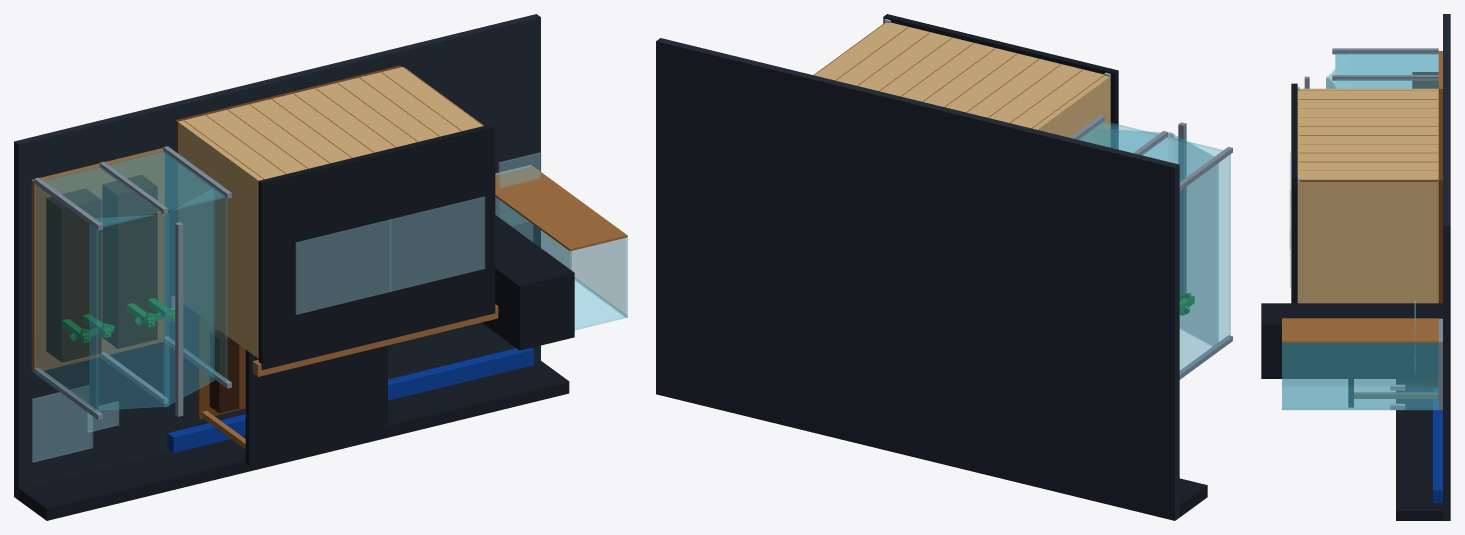
The model's file is project_domus.obj.
The picture shows the model from 3 angles, left to right: view 1: azimuth 30°, elevation 25°; view 2: azimuth 150°, elevation 25°; view 3: azimuth 270°, elevation 25°; orthographic projection. The views are drawn at different scales.
Parts seen in each view (by area): view 1: Base_negra_800x520, Techo_plano_removible, Muro_posterior_vivienda, Frente_rotulado_PROJECT_DOMUS, Cubierta_inclinada_izquierda, Muro_lateral_izquierdo, Cubierta_porche, Panel_transparente_izquierdo, Panel_transparente_derecho, Cubierta_inclinada_derecha, Bancal_derecho, Bancal_izquierdo (+18 smaller); view 2: Base_negra_800x520, Muro_posterior_vivienda, Panel_transparente_izquierdo, Cubierta_inclinada_izquierda, Panel_transparente_posterior, Techo_plano_removible, Muro_lateral_izquierdo, Cubierta_inclinada_derecha, Viga_cumbrera, Frente_rotulado_PROJECT_DOMUS; view 3: Muro_lateral_derecho, Muro_posterior_vivienda, Gabinete_lateral_derecho, Torre_Jarvis_cuerpo, Gabinete_lateral_izquierdo, Frente_rotulado_PROJECT_DOMUS, Gabinete_fondo, Base_negra_800x520, Gabinete_frontal_removible, Panel_transparente_posterior, Panel_transparente_izquierdo, Techo_plano_removible (+11 smaller).
Part boxes in pixels (x1,y1,x2,y2): Base_negra_800x520: (14, 14, 540, 499); Techo_plano_removible: (258, 124, 495, 369); Muro_posterior_vivienda: (178, 67, 482, 182); Frente_rotulado_PROJECT_DOMUS: (18, 361, 569, 520); Cubierta_inclinada_izquierda: (89, 214, 169, 410); Muro_lateral_izquierdo: (178, 124, 258, 358); Cubierta_porche: (245, 345, 387, 465); Panel_transparente_izquierdo: (34, 184, 97, 413); Panel_transparente_derecho: (164, 153, 227, 386); Cubierta_inclinada_derecha: (163, 189, 214, 407); Bancal_derecho: (102, 175, 157, 348); Bancal_izquierdo: (46, 188, 101, 362); Base_negra_800x520: (656, 38, 1179, 520); Muro_posterior_vivienda: (814, 22, 1110, 130); Panel_transparente_izquierdo: (1180, 154, 1230, 374); Cubierta_inclinada_izquierda: (1168, 132, 1218, 346); Panel_transparente_posterior: (1078, 121, 1222, 181); Techo_plano_removible: (883, 14, 1118, 148); Muro_lateral_izquierdo: (1040, 78, 1110, 146); Cubierta_inclinada_derecha: (1094, 128, 1173, 161); Viga_cumbrera: (1178, 122, 1186, 315); Frente_rotulado_PROJECT_DOMUS: (1179, 478, 1207, 517); Muro_lateral_derecho: (1297, 180, 1438, 303); Muro_posterior_vivienda: (1297, 88, 1438, 179); Gabinete_lateral_derecho: (1282, 342, 1438, 409); Torre_Jarvis_cuerpo: (1261, 303, 1442, 378); Gabinete_lateral_izquierdo: (1282, 343, 1438, 384); Frente_rotulado_PROJECT_DOMUS: (1396, 379, 1442, 520); Gabinete_fondo: (1282, 318, 1438, 343); Base_negra_800x520: (1443, 14, 1450, 520); Gabinete_frontal_removible: (1282, 387, 1438, 409); Panel_transparente_posterior: (1335, 53, 1438, 88); Panel_transparente_izquierdo: (1335, 54, 1438, 88); Techo_plano_removible: (1291, 83, 1297, 303).
Bounding box in the file's own units: 800 × 520 × 302.
